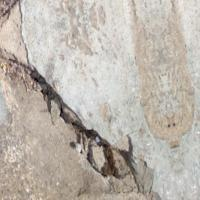crack: (0, 35, 143, 199)
